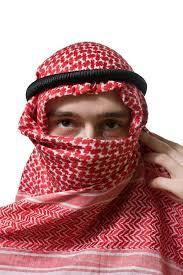scarf-kerchief: (22, 41, 154, 198)
